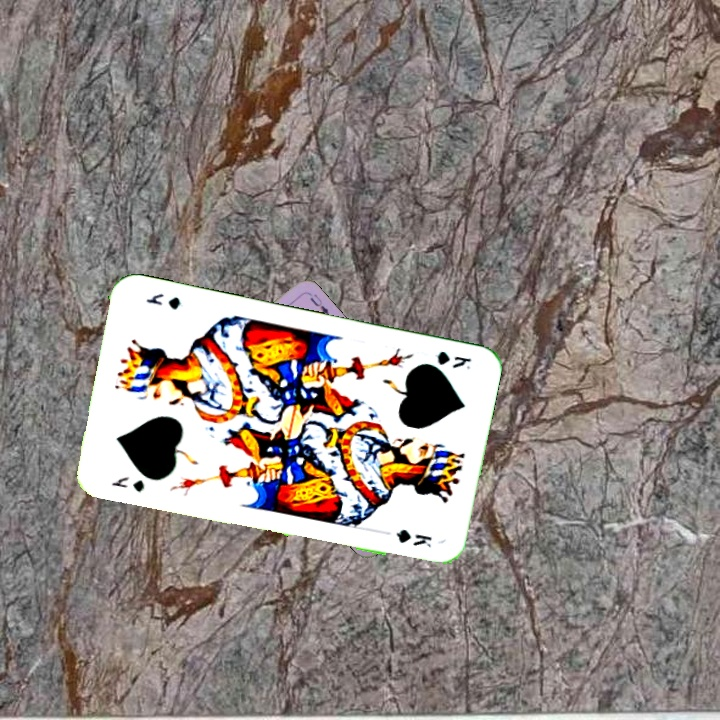GK: (432, 347, 474, 372), (107, 473, 147, 495)
